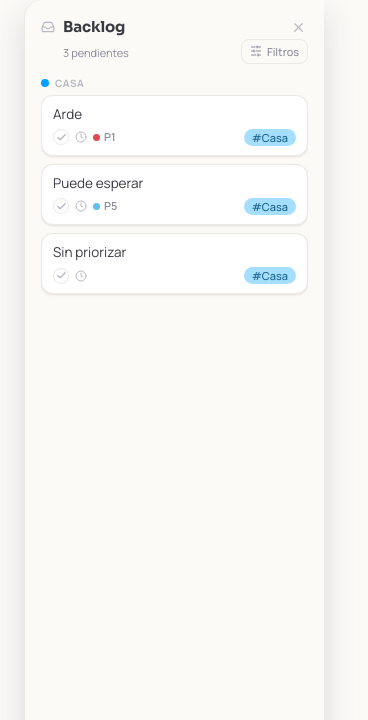
BacklogPanel › filtra por prioridad, y con el filtro puesto lo dice en el contador
What coordinates should you click on to do the following:
click the button with aria-label "Filtrar y ordenar"
I would click on:
 (274, 51)
Its box is [241,38,308,64].
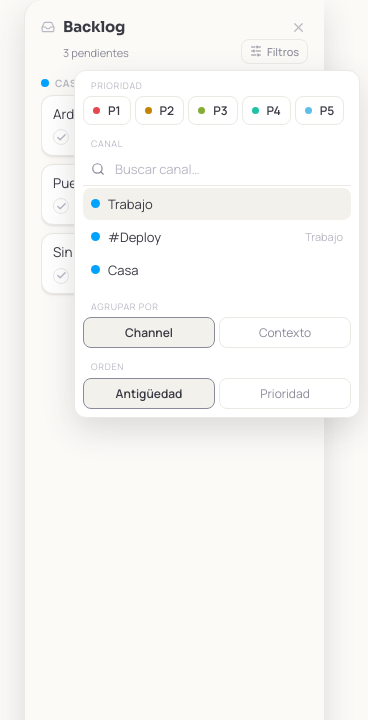
What coordinates should you click on to do the following:
click the button "P1"
I would click on:
 (107, 110)
Its box is [83,96,131,125].
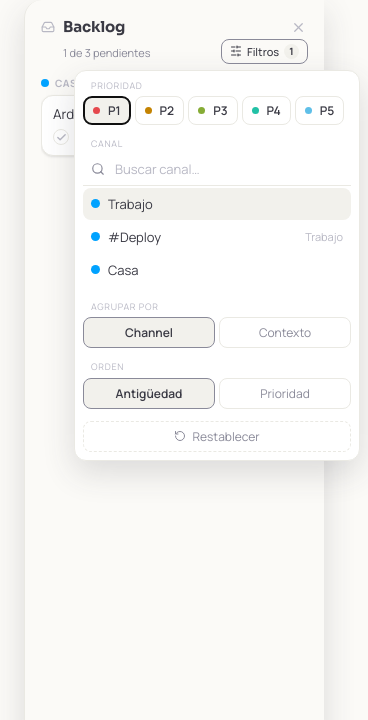
Check: the text "1 de 3 pendientes" is shown, box [63,45,150,60]
